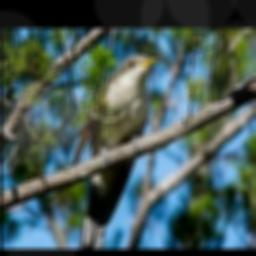Cuckoo: (71, 54, 160, 249)
